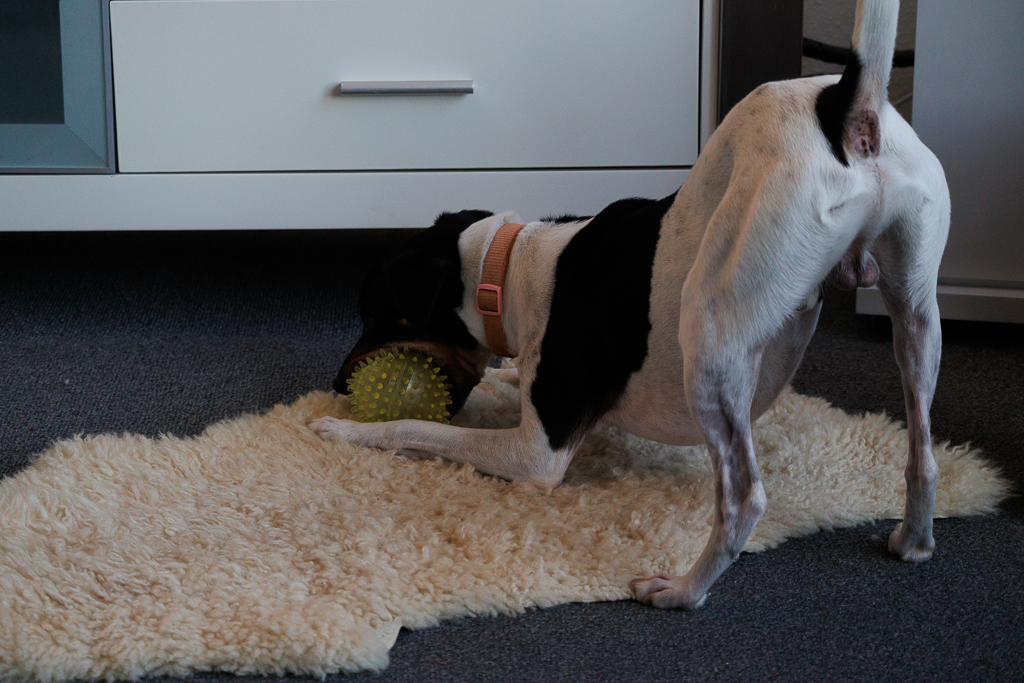Dog: (302, 0, 960, 622)
